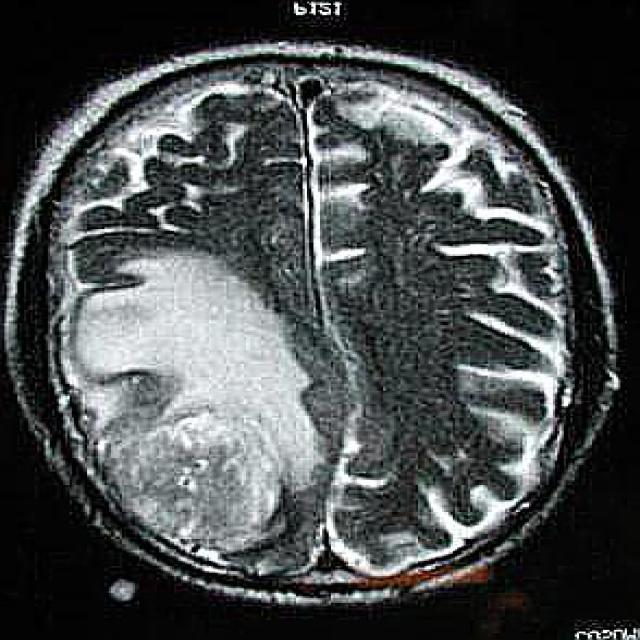Tumor-Cell: (78, 266, 308, 566)
